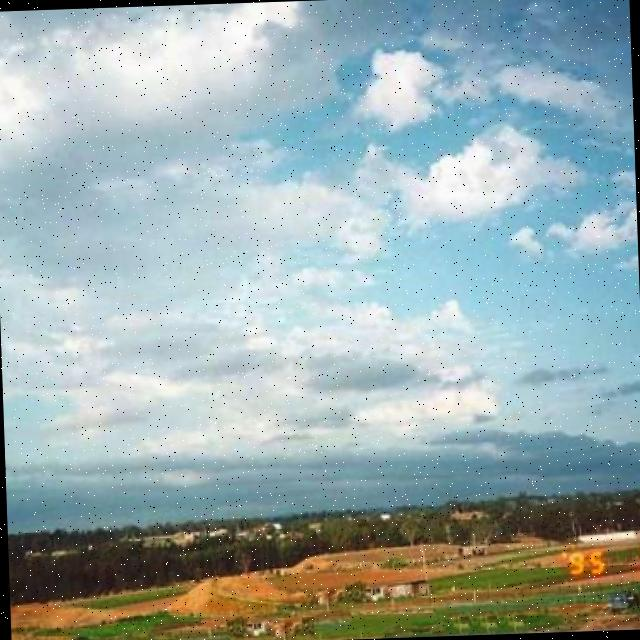St: (1, 1, 640, 465)
